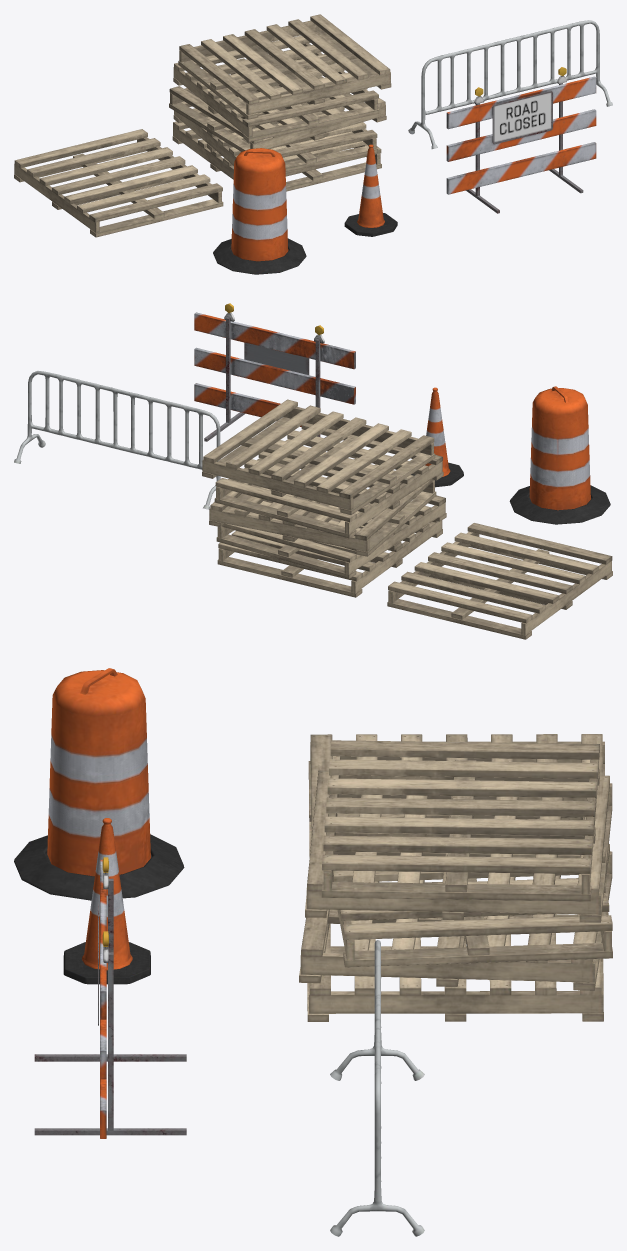
The model's file is CONSTRUCTION PROPS.fbx.
3 views of the same model, one above another, from view 1: azimuth 30°, elevation 25°; view 2: azimuth 150°, elevation 25°; view 3: azimuth 270°, elevation 25° (orthographic). The views are drawn at different scales.
Parts seen in each view (by area): view 1: construction props low poly.009, construction props low poly.004, construction props low poly, construction props low poly.003, construction props low poly.006, construction props low poly.005; view 2: construction props low poly.009, construction props low poly.004, construction props low poly, construction props low poly.003, construction props low poly.006, construction props low poly.005; view 3: construction props low poly.009, construction props low poly.003, construction props low poly, construction props low poly.005, construction props low poly.004, construction props low poly.006.
Part boxes in pixels (<box>): construction props low poly.009: <box>169,14,391,191</box>; construction props low poly.004: <box>14,129,223,237</box>; construction props low poly: <box>446,67,596,213</box>; construction props low poly.003: <box>213,148,306,274</box>; construction props low poly.006: <box>408,20,612,149</box>; construction props low poly.005: <box>344,144,397,236</box>; construction props low poly.009: <box>202,399,446,597</box>; construction props low poly.004: <box>387,523,612,639</box>; construction props low poly: <box>194,303,355,441</box>; construction props low poly.003: <box>509,386,610,524</box>; construction props low poly.006: <box>14,371,220,509</box>; construction props low poly.005: <box>411,387,463,487</box>; construction props low poly.009: <box>299,740,612,1021</box>; construction props low poly.003: <box>14,668,184,900</box>; construction props low poly: <box>34,857,186,1138</box>; construction props low poly.005: <box>63,818,150,984</box>; construction props low poly.004: <box>308,734,604,856</box>; construction props low poly.006: <box>330,940,424,1236</box>.
Bounding box in the file's own units: 640 × 132 × 347.
